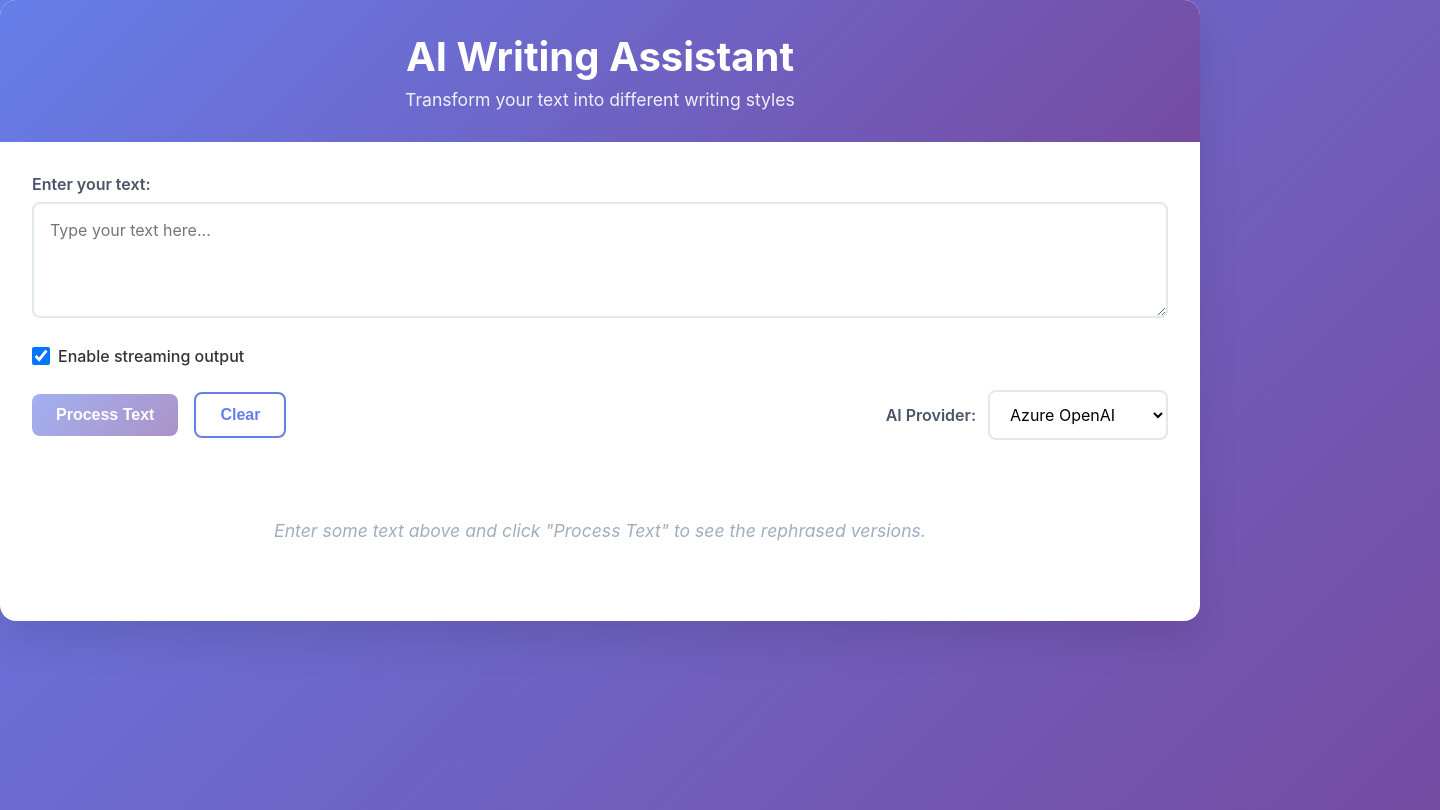
it: WritingAssistant › processes text successfully
# Disable streaming for this test
Click the checkbox labelled "Enable streaming output": coordinates (41, 356) [32,347,50,365]
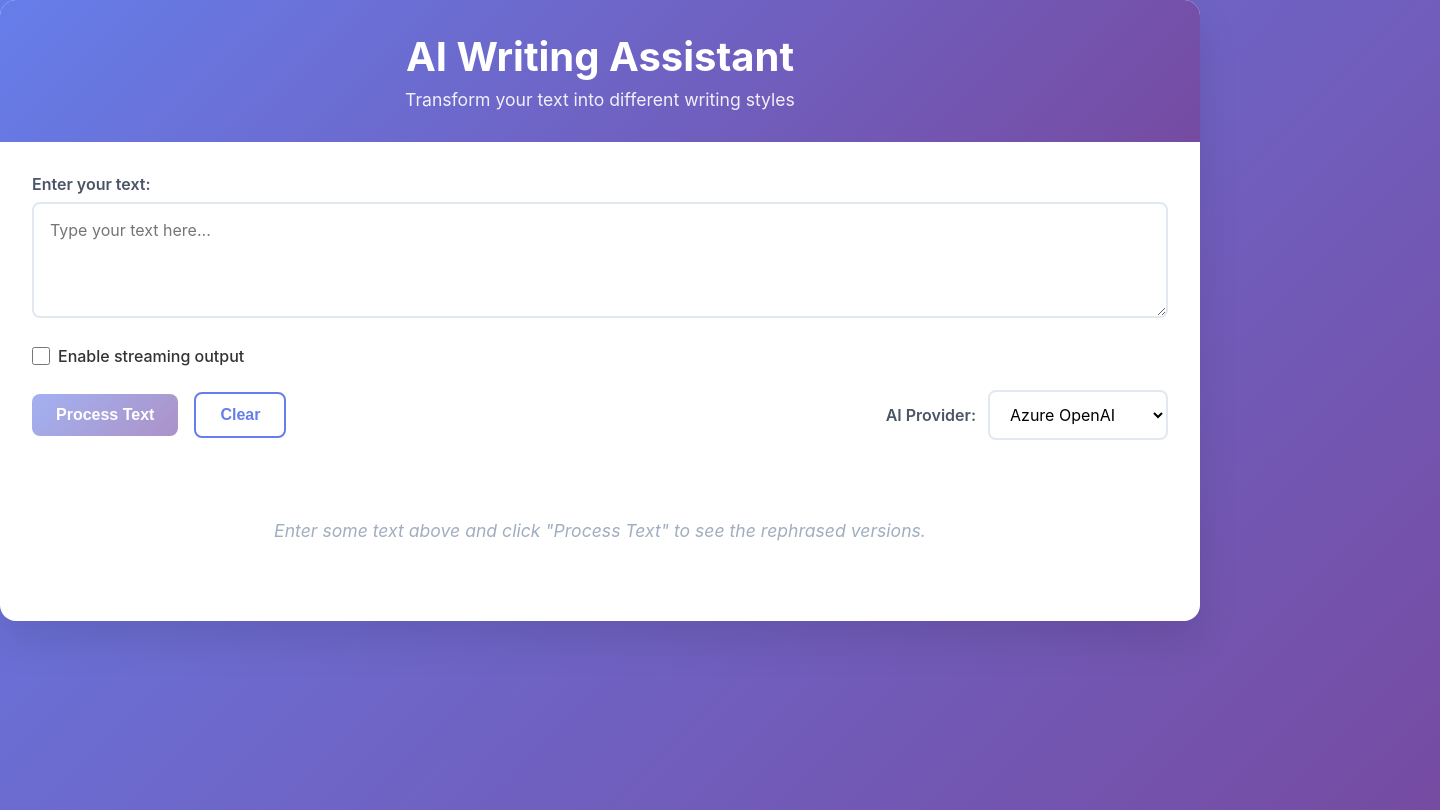
In the text box labelled "Enter your text:": coordinates (600, 260) [32,202,1168,318], type "Hello world"
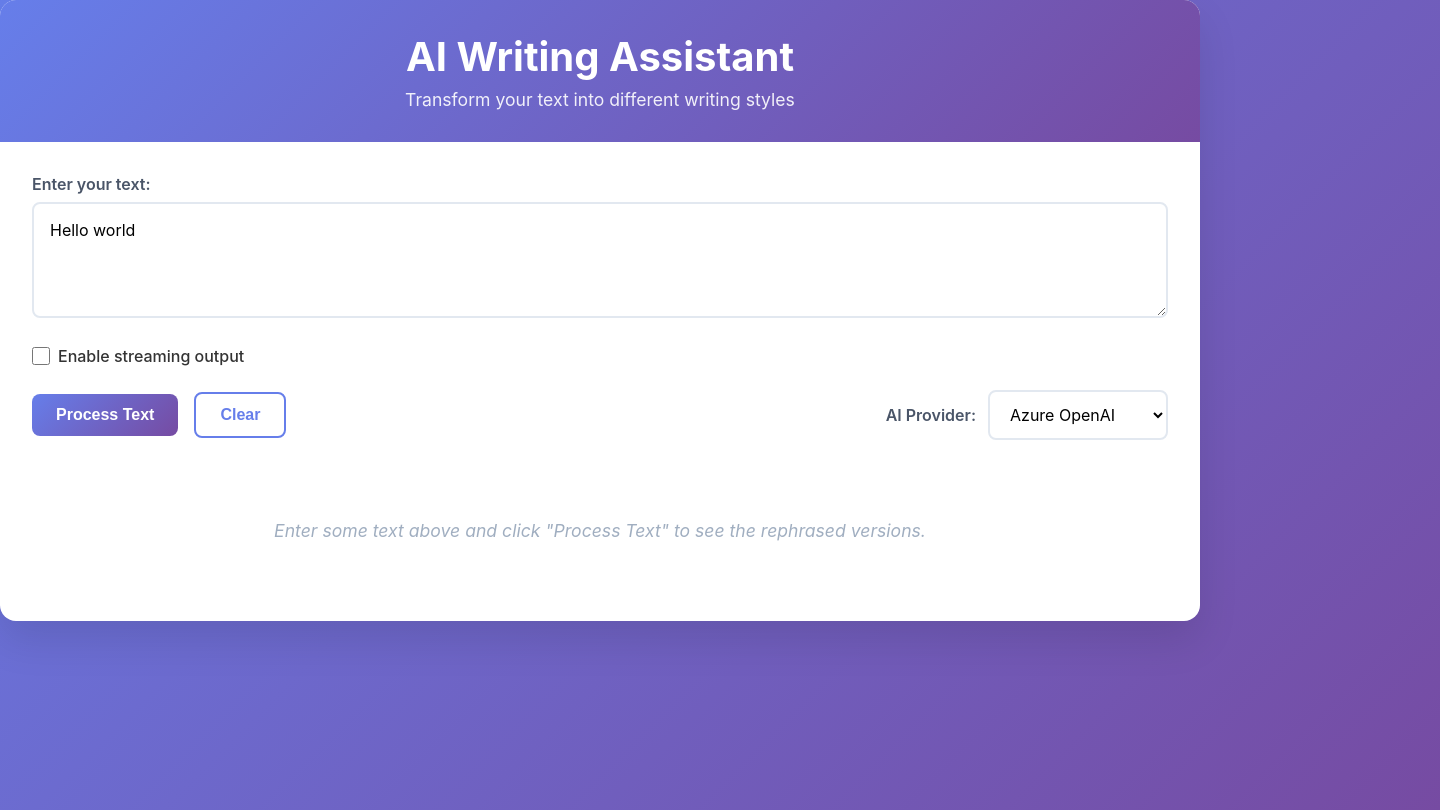
Click the button "Process Text": coordinates (105, 415) [32,394,178,436]
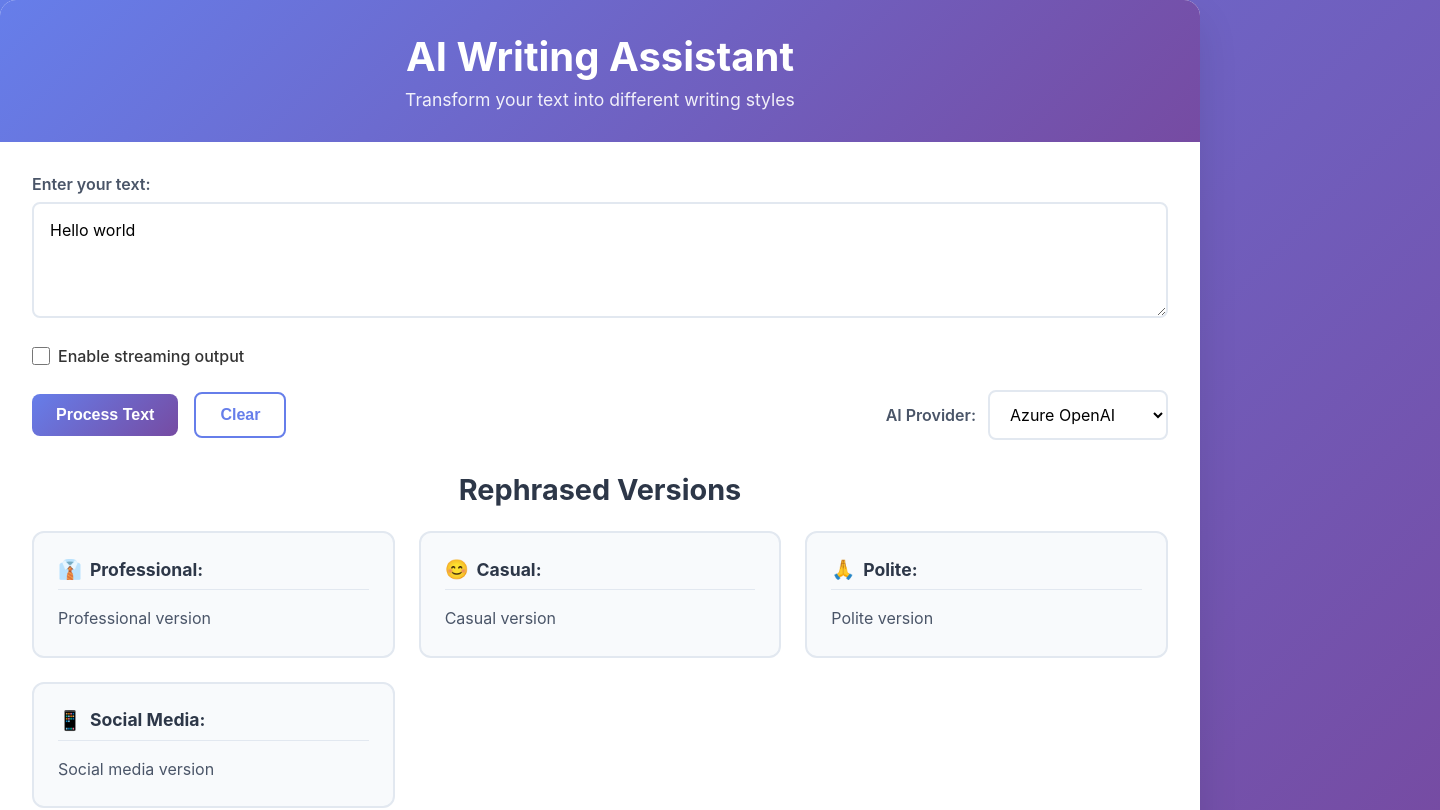
Expected: the text "Professional version" is shown, [58,608,211,628]
Expected: the text "Casual version" is shown, [445,608,556,628]
Expected: the text "Polite version" is shown, [831,608,933,628]
